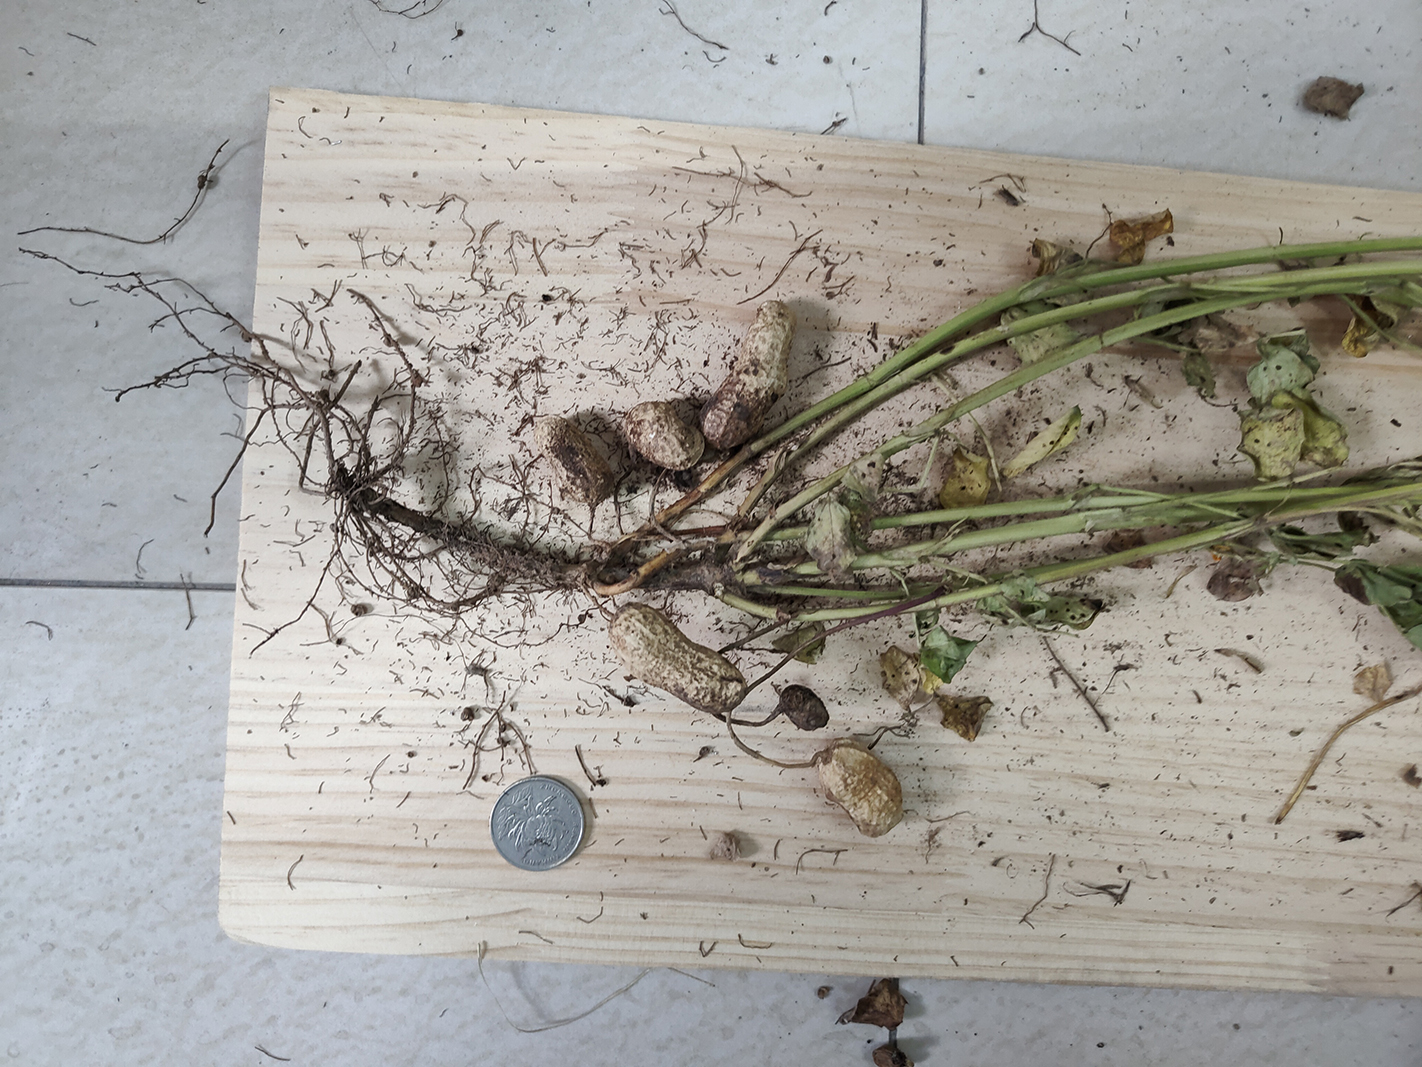h: (608, 604, 747, 711), (704, 297, 792, 449), (818, 743, 903, 838), (623, 403, 704, 468)
l: (535, 415, 607, 502), (780, 685, 829, 731)
